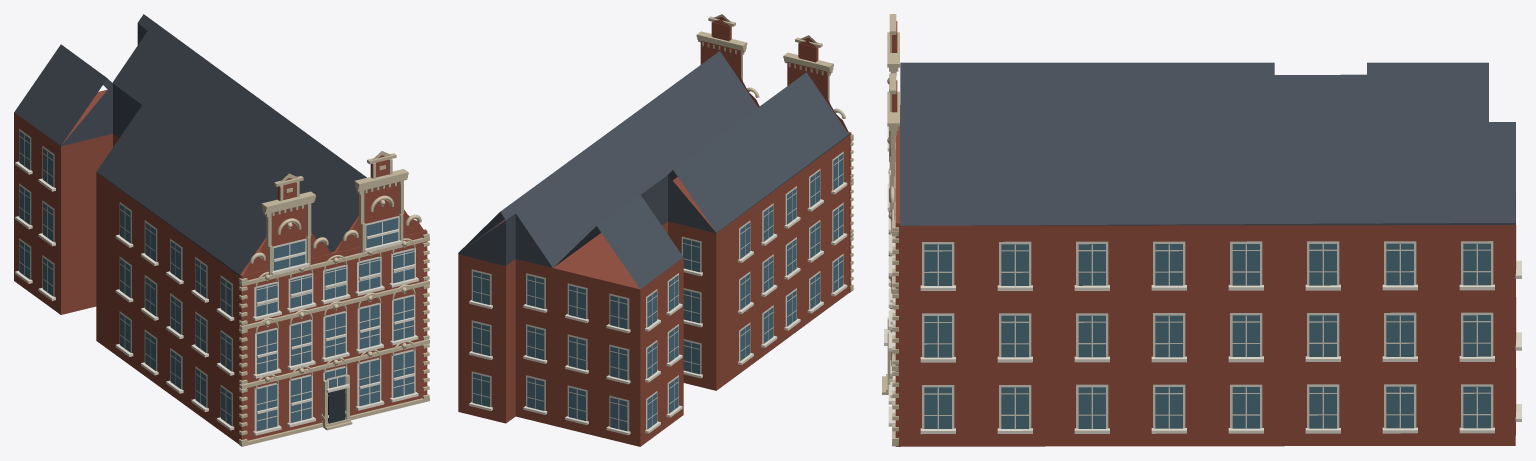
File: de-dolphijn.glb
The picture shows the model from 3 angles, left to right: view 1: azimuth 30°, elevation 25°; view 2: azimuth 150°, elevation 25°; view 3: azimuth 270°, elevation 25°; orthographic projection. The views are drawn at different scales.
Parts seen in each view (by area): view 1: de-dolphijn; view 2: de-dolphijn; view 3: de-dolphijn.
Part boxes in pixels (box(x1,y1,x2,y2)): de-dolphijn: box(14, 14, 429, 446); de-dolphijn: box(458, 14, 853, 446); de-dolphijn: box(882, 14, 1521, 446).
Size of the model in its own units: 14.85 by 19.24 by 32.43.
